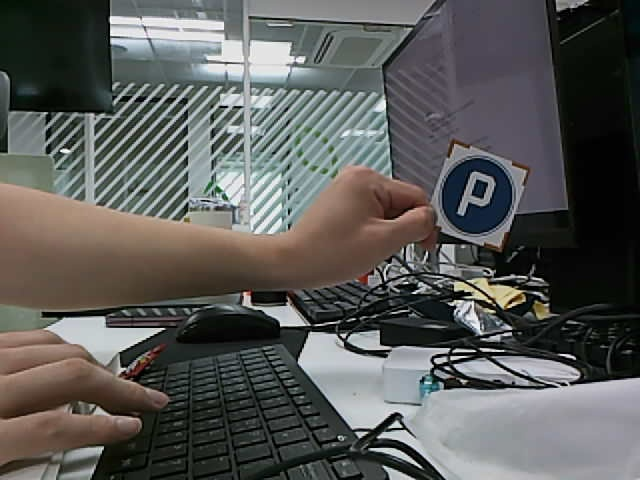park: (440, 155, 516, 237)
